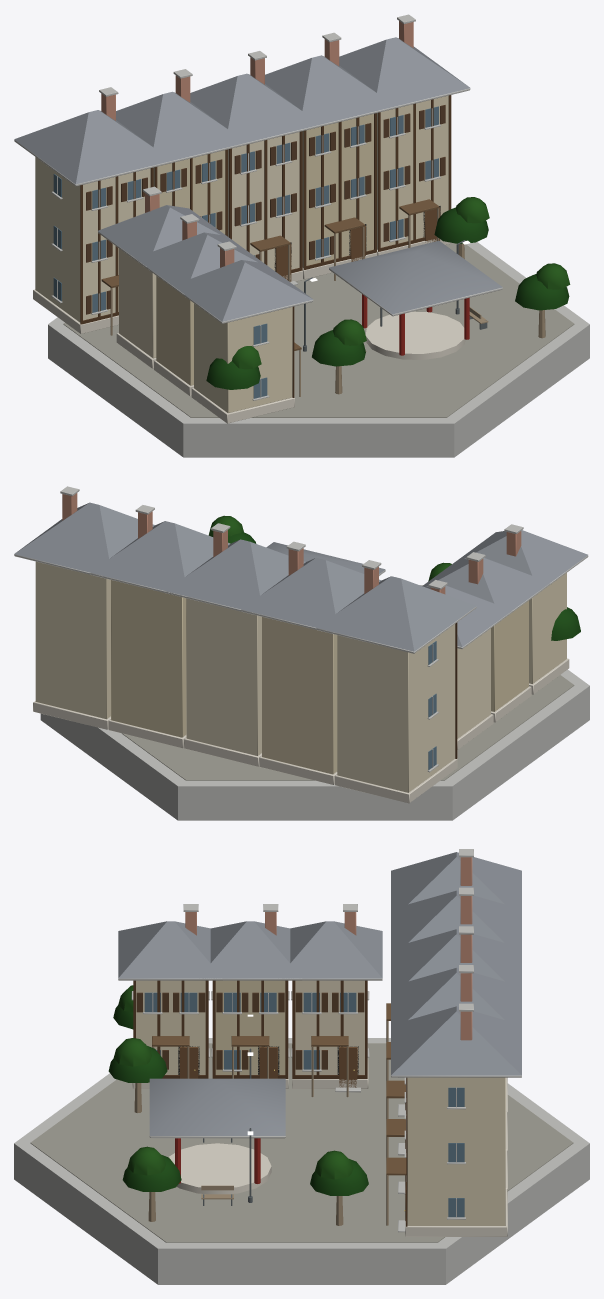
The model's file is residential_asia.glb.
3 views of the same model, one above another, from view 1: azimuth 30°, elevation 25°; view 2: azimuth 150°, elevation 25°; view 3: azimuth 270°, elevation 25° (orthographic). The views are drawn at different scales.
Visible parts, largest first — view 1: roof_slate, plaster, wall_concrete, pavers, wood, leaf, stone, glass, brick, paint; view 2: plaster, roof_slate, wall_concrete, stone, pavers, brick, leaf, glass; view 3: roof_slate, pavers, wall_concrete, plaster, wood, leaf, stone, glass, brick.
Part boxes in pixels (bbox=[...]): roof_slate: bbox=[14, 37, 502, 321]; plaster: bbox=[35, 95, 448, 412]; wall_concrete: bbox=[14, 14, 589, 457]; pavers: bbox=[63, 243, 574, 417]; wood: bbox=[80, 95, 545, 397]; leaf: bbox=[206, 197, 570, 389]; stone: bbox=[33, 239, 465, 423]; glass: bbox=[53, 106, 438, 398]; brick: bbox=[101, 21, 413, 267]; paint: bbox=[362, 294, 469, 355]; plaster: bbox=[35, 561, 566, 792]; roof_slate: bbox=[14, 502, 587, 651]; wall_concrete: bbox=[14, 486, 589, 820]; stone: bbox=[33, 658, 569, 803]; pavers: bbox=[122, 675, 574, 780]; brick: bbox=[62, 493, 521, 594]; leaf: bbox=[208, 515, 580, 640]; glass: bbox=[428, 641, 436, 770]; roof_slate: bbox=[118, 852, 521, 1135]; pavers: bbox=[30, 1043, 573, 1242]; wall_concrete: bbox=[14, 849, 589, 1284]; plaster: bbox=[136, 980, 505, 1225]; wood: bbox=[133, 980, 407, 1226]; leaf: bbox=[108, 985, 368, 1195]; stone: bbox=[132, 1044, 507, 1236]; glass: bbox=[144, 992, 464, 1217]; brick: bbox=[185, 857, 472, 1040].
Size of the model in its own units: 21.3 by 12.17 by 24.6.
